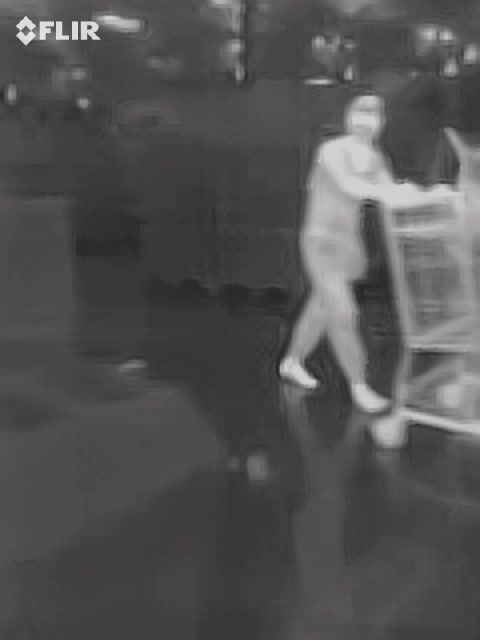head: (341, 89, 387, 140)
